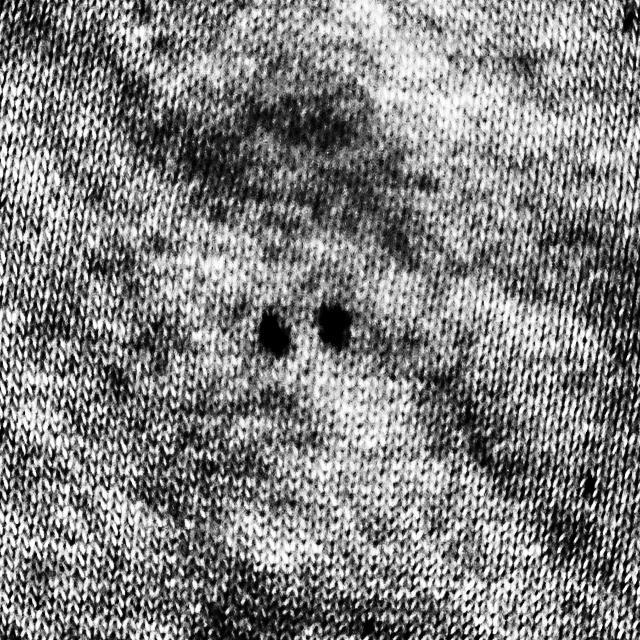Color_defect: (253, 303, 293, 360), (312, 301, 354, 344)
